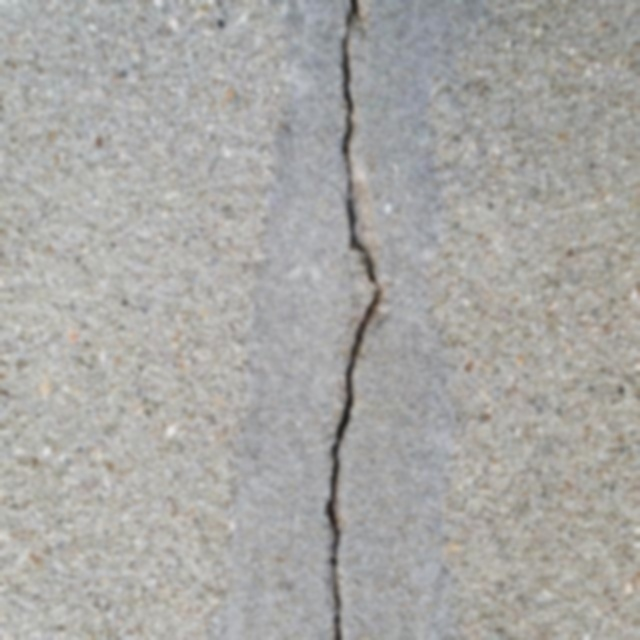SurfaceCrack: (276, 0, 422, 639)
